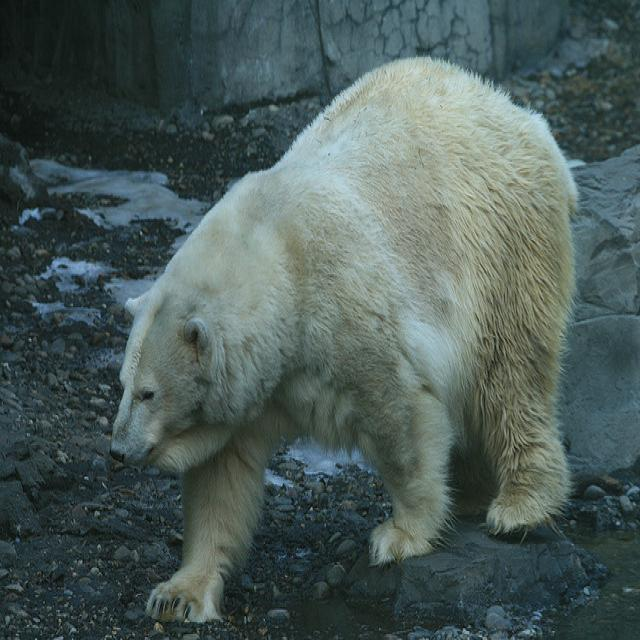Bear: (109, 29, 567, 634)
